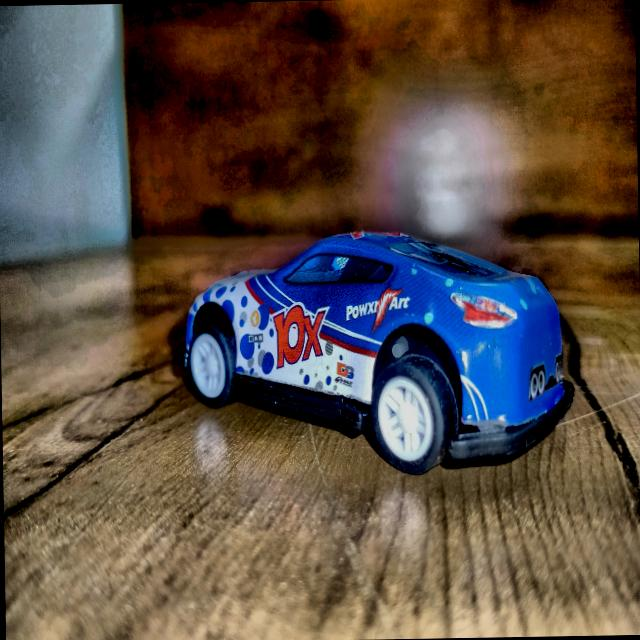Car: (181, 228, 574, 478)
